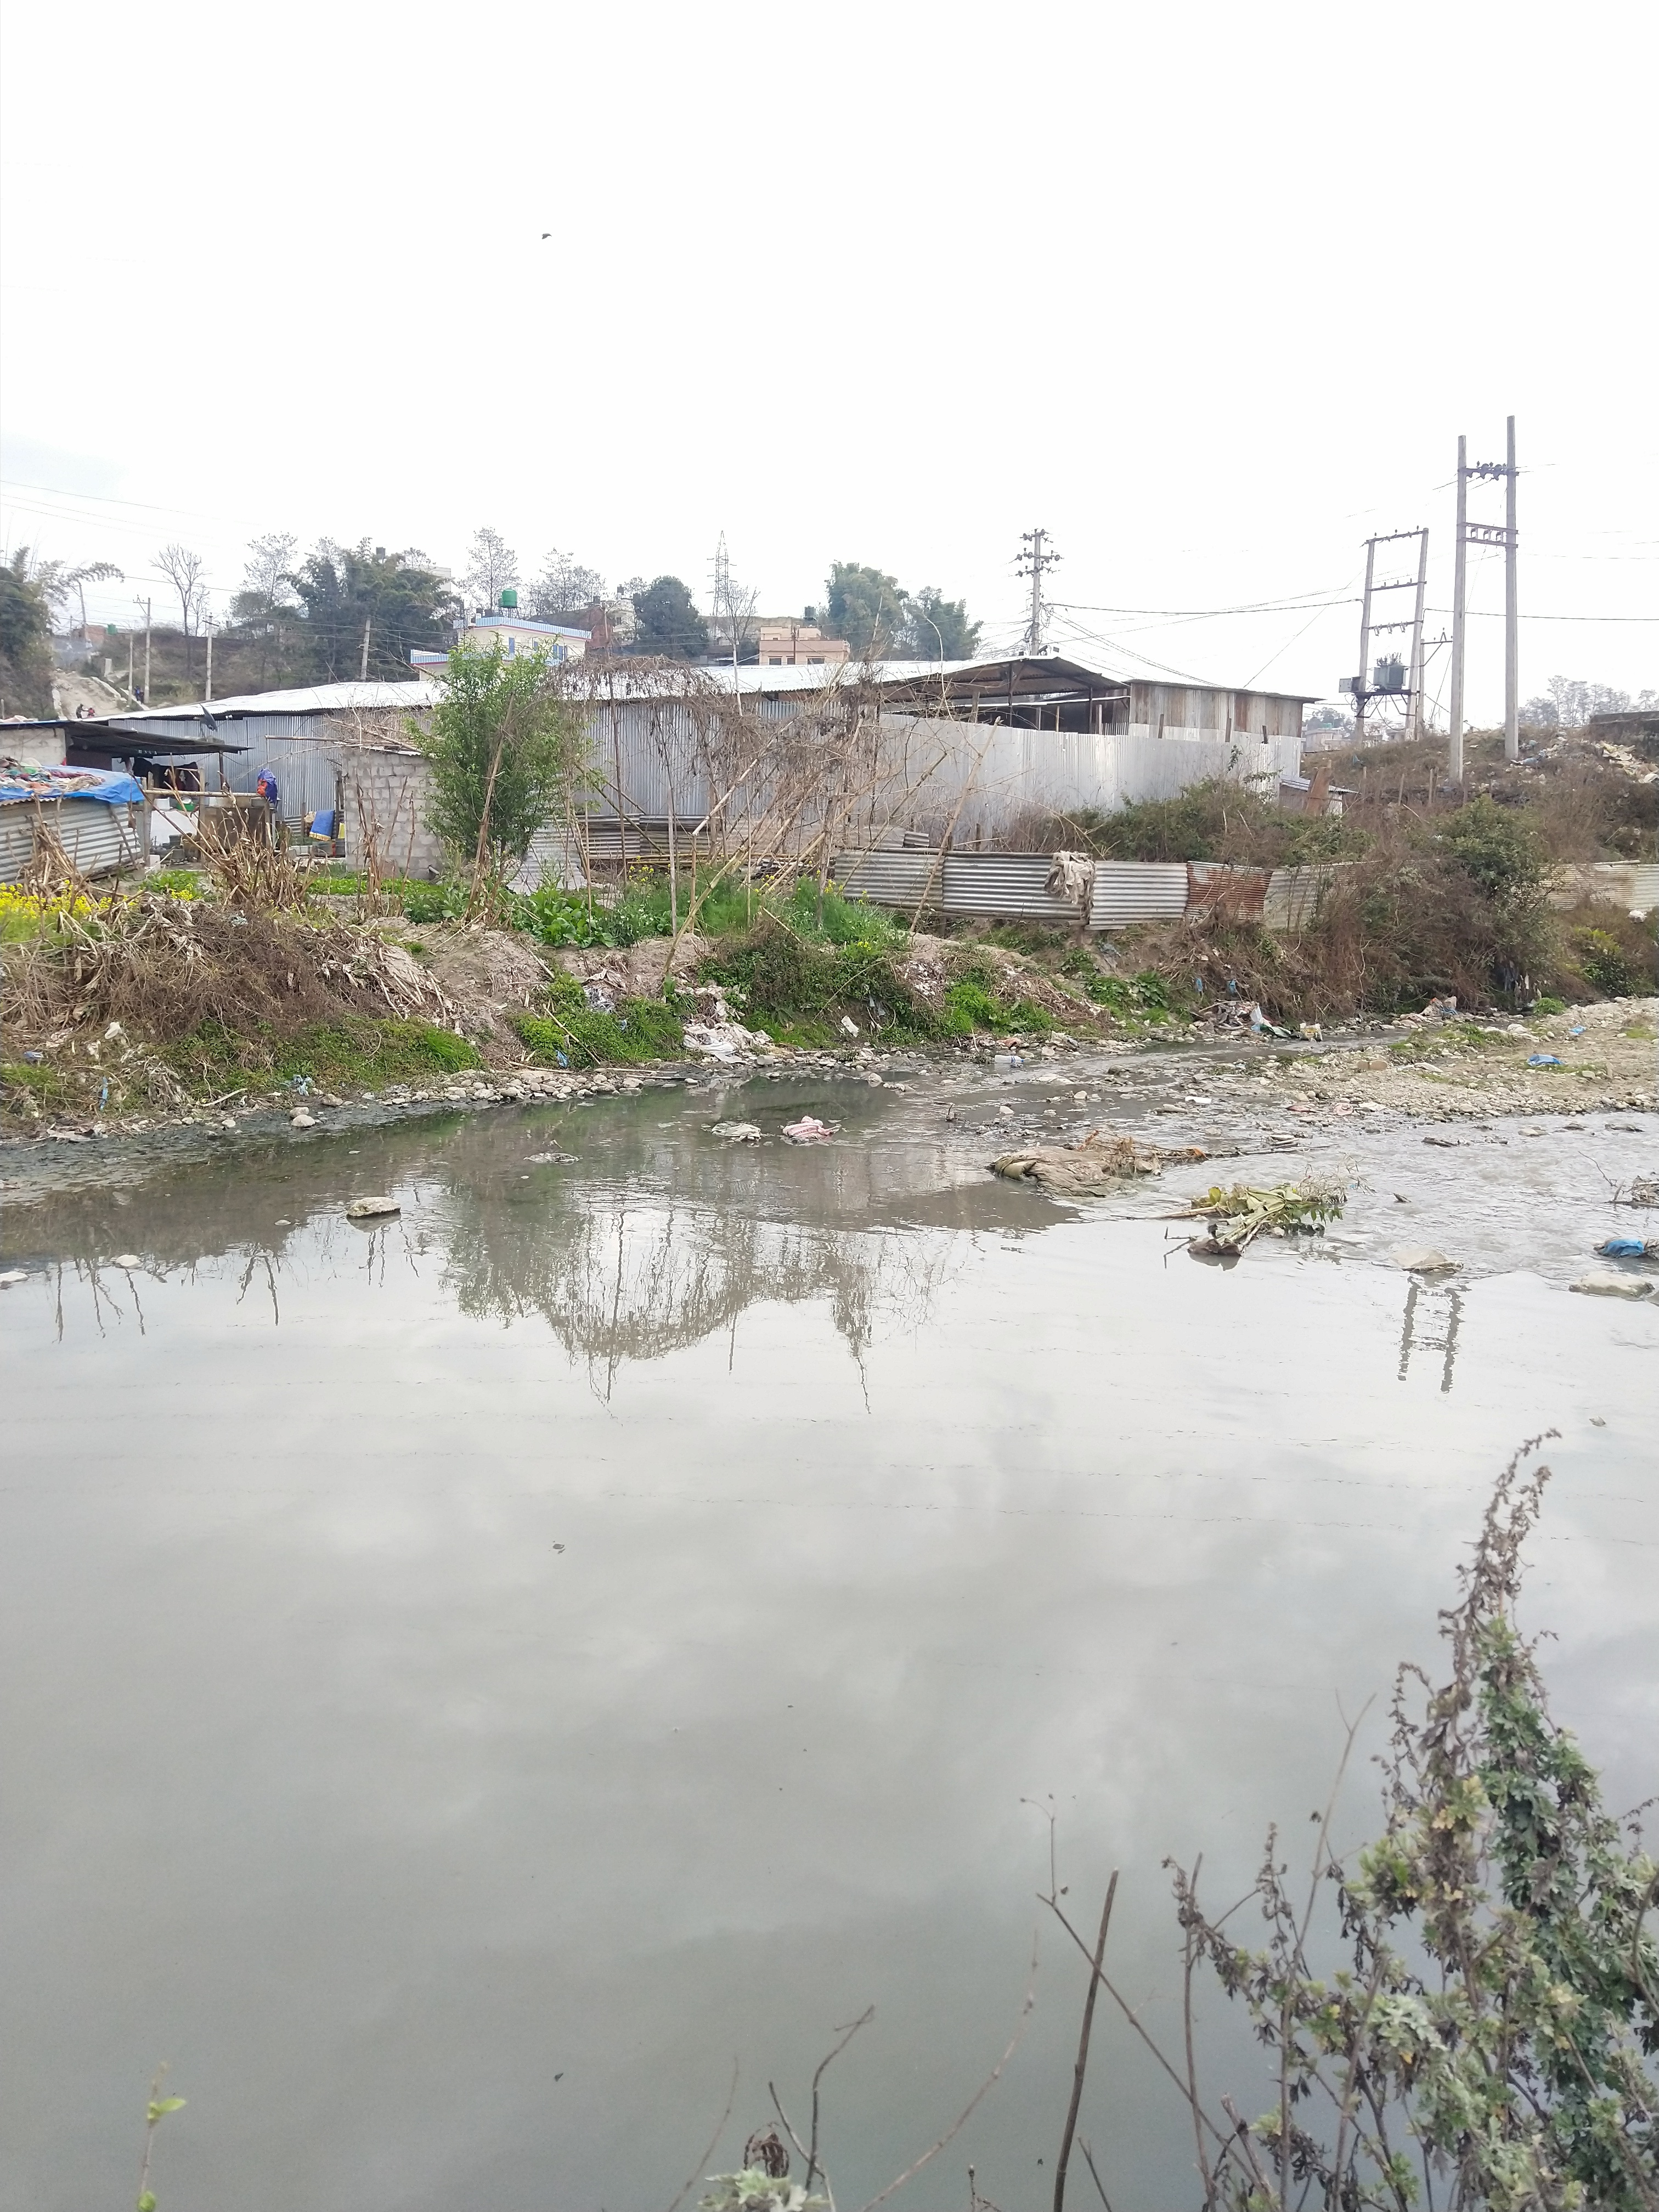Plastic Bottle: (993, 1054, 1023, 1062), (756, 1054, 774, 1064), (1162, 1104, 1187, 1111), (1192, 1073, 1208, 1082)
